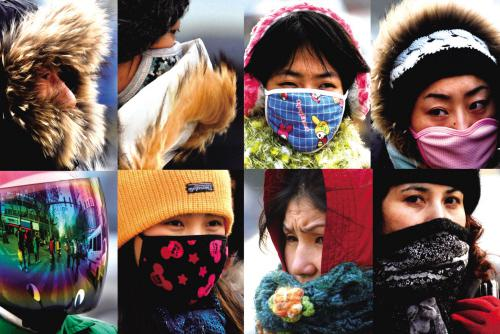NONE: (18, 64, 89, 148)
OK: (137, 209, 231, 303), (266, 70, 347, 151), (118, 20, 187, 106)
WRONG: (278, 221, 365, 308), (418, 81, 499, 168), (388, 179, 468, 267)
